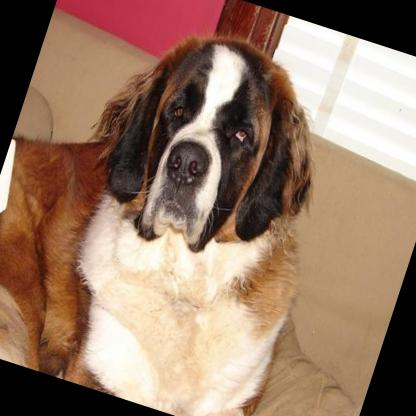Saint_Bernard: (0, 0, 365, 416)
